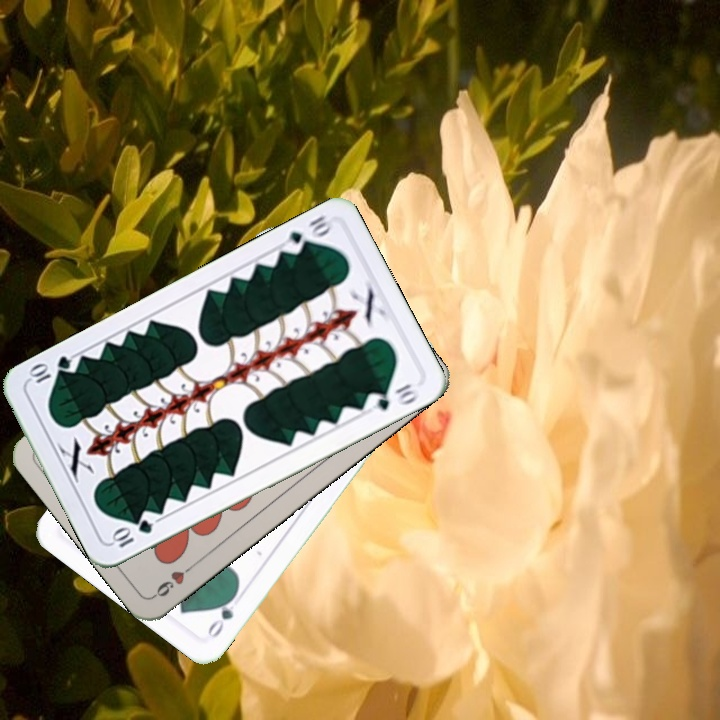G10: (278, 211, 334, 257), (108, 515, 156, 551)
GO: (202, 588, 243, 641)
H9: (149, 558, 199, 600)
